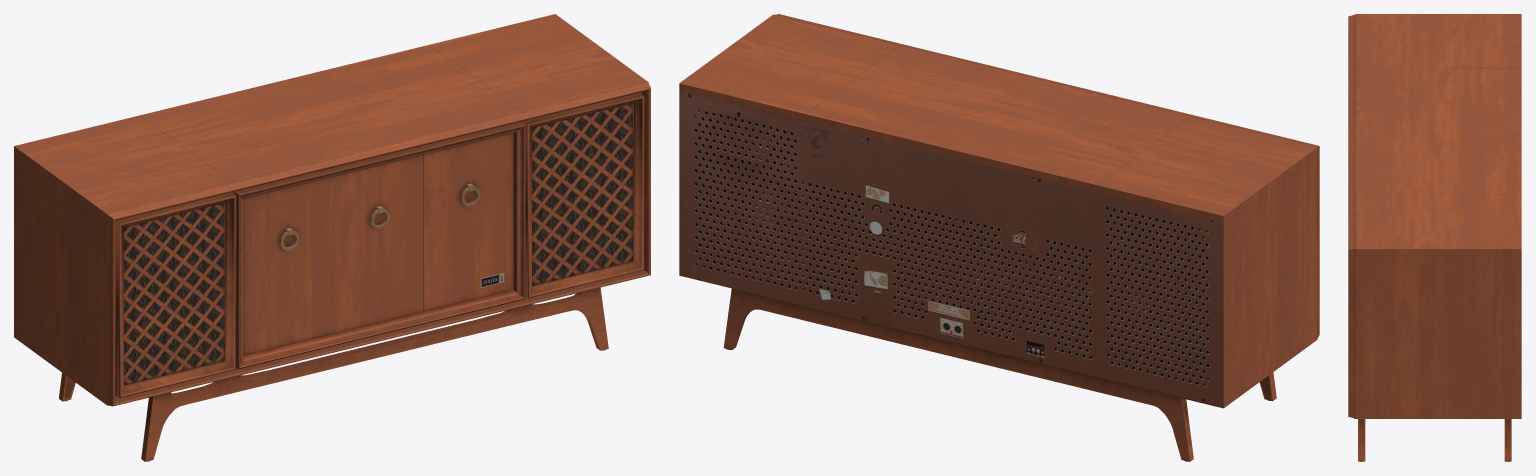
The model's file is zenith_console_-_mid_century_modern.glb.
3 renders of one model, left to right at view 1: azimuth 30°, elevation 25°; view 2: azimuth 150°, elevation 25°; view 3: azimuth 270°, elevation 25°, orthographic. The views are drawn at different scales.
Visible parts, largest first — view 1: Object_2; view 2: Object_2; view 3: Object_2.
Part boxes in pixels (left/top/right/bottom): Object_2: left=14, top=14, right=650, bottom=461; Object_2: left=679, top=14, right=1319, bottom=461; Object_2: left=1348, top=14, right=1521, bottom=461.
Bounding box in the file's own units: 145 × 66.11 × 45.15.
Materials: 1 (1 with a texture image).
